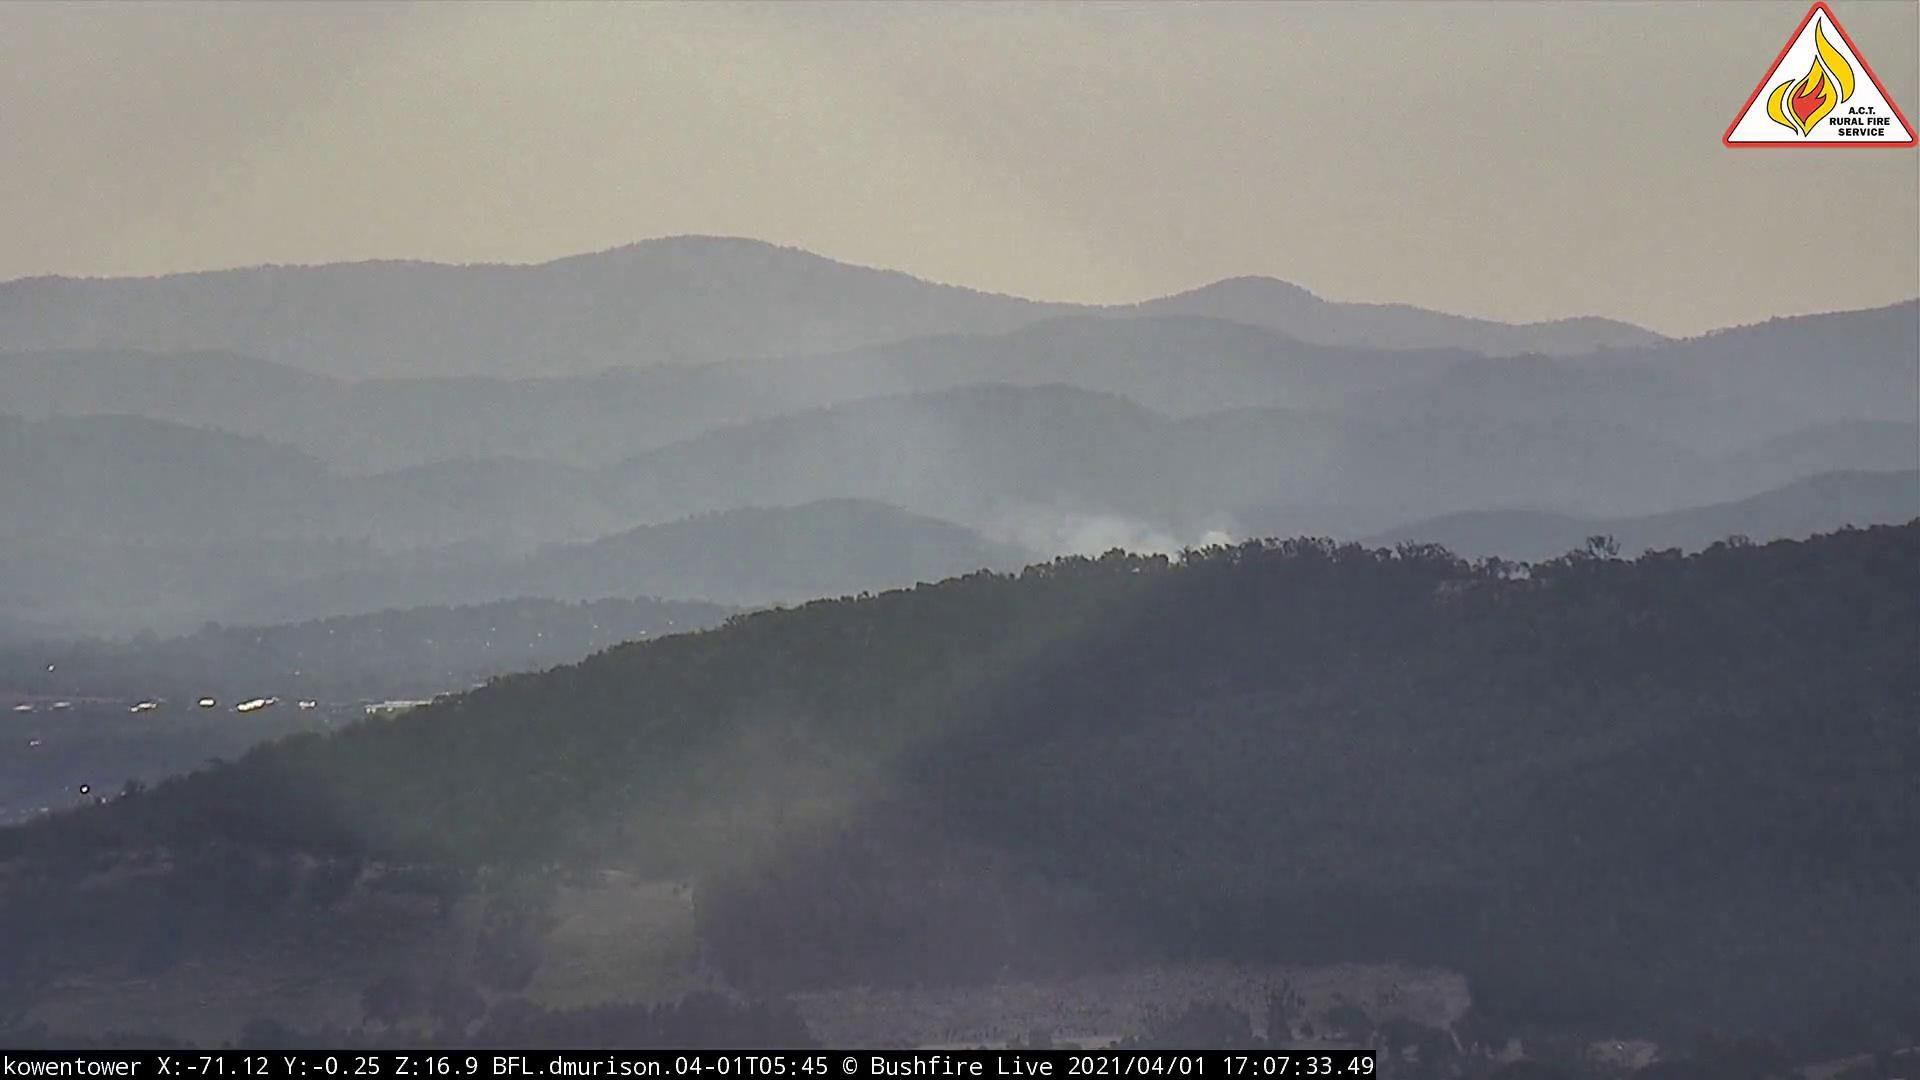Smoke: (960, 438, 1282, 588)
